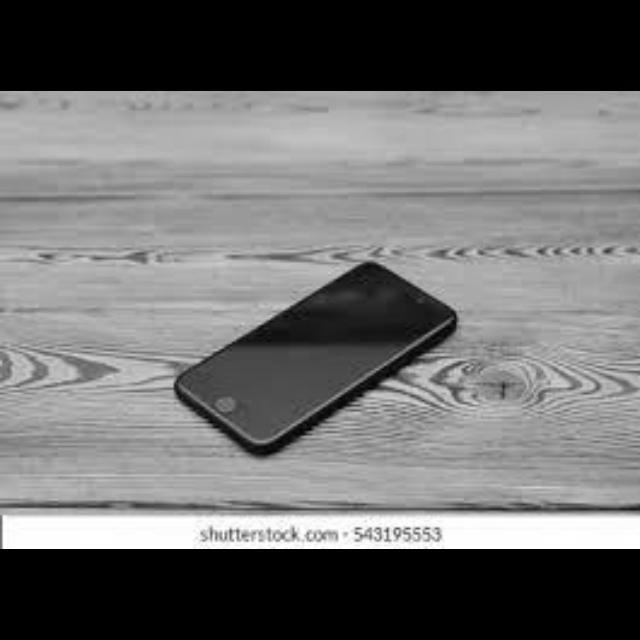fake: (168, 257, 462, 459)
